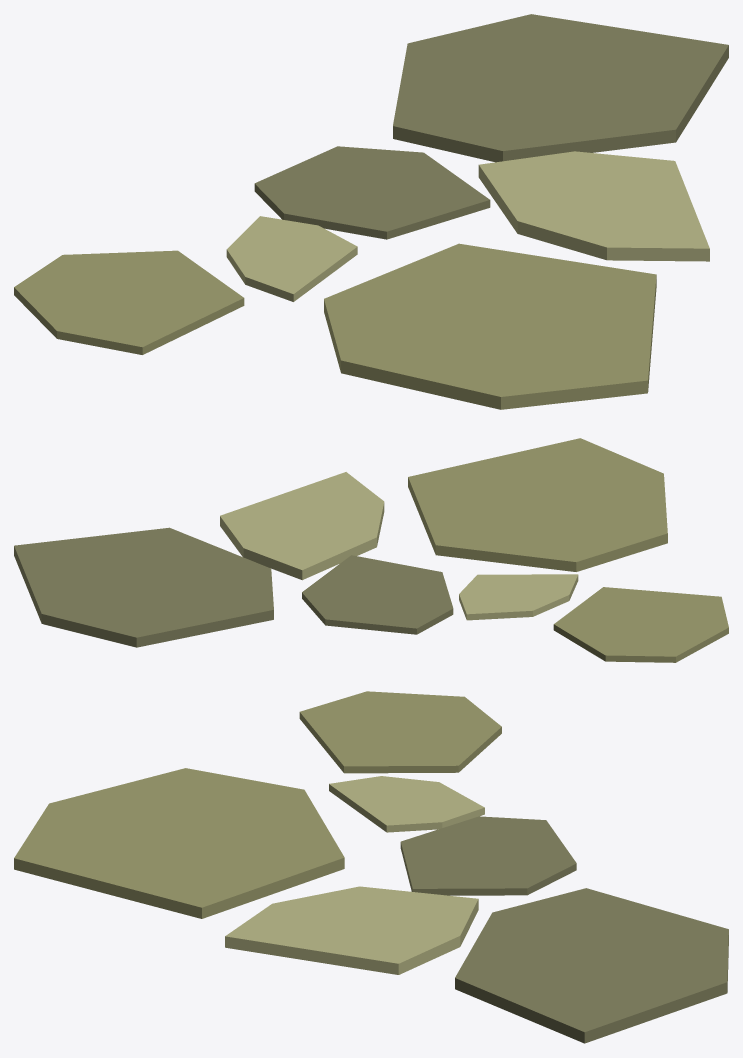
Rendered from RH_Stone02.fbx.
3 views of the same model, one above another, from view 1: azimuth 30°, elevation 25°; view 2: azimuth 150°, elevation 25°; view 3: azimuth 270°, elevation 25° (orthographic). The views are drawn at different scales.
Parts seen in each view (by area): view 1: RH_Stone02; view 2: RH_Stone02; view 3: RH_Stone02.
Part boxes in pixels (x1,y1,x2,y2): RH_Stone02: (14,14,728,409); RH_Stone02: (14,438,728,662); RH_Stone02: (14,691,728,1043).
Bounding box in the file's own units: 51.98 × 0.8033 × 45.89.
1 material, 1 textured.
